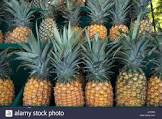Pineapple: (115, 39, 147, 106), (84, 36, 113, 109), (52, 48, 85, 108), (23, 47, 51, 106), (86, 1, 111, 44), (40, 1, 59, 46)
